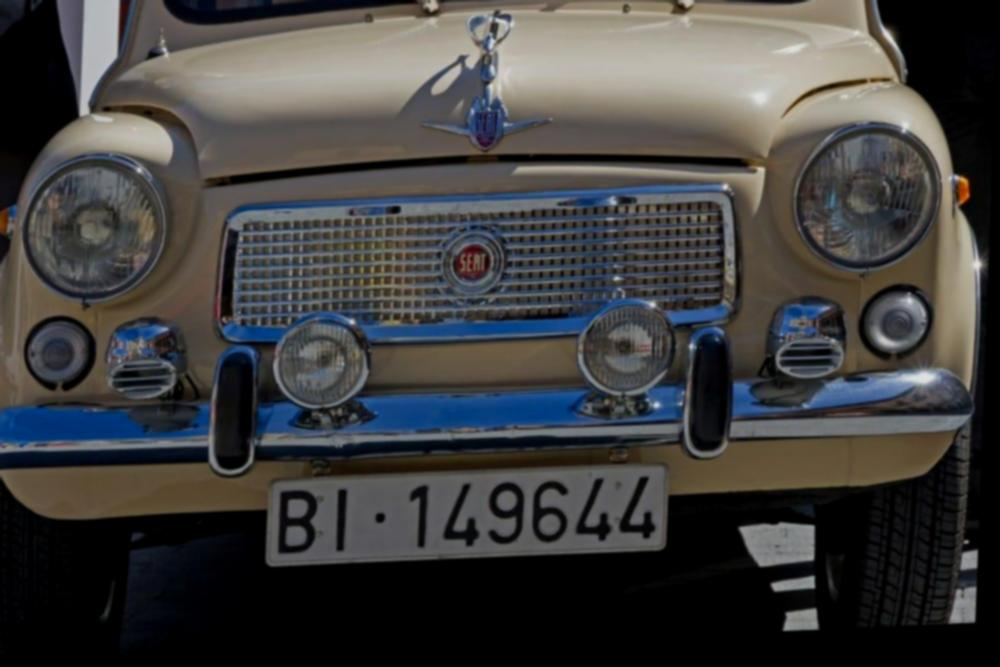License_Plate: (257, 456, 672, 575)
